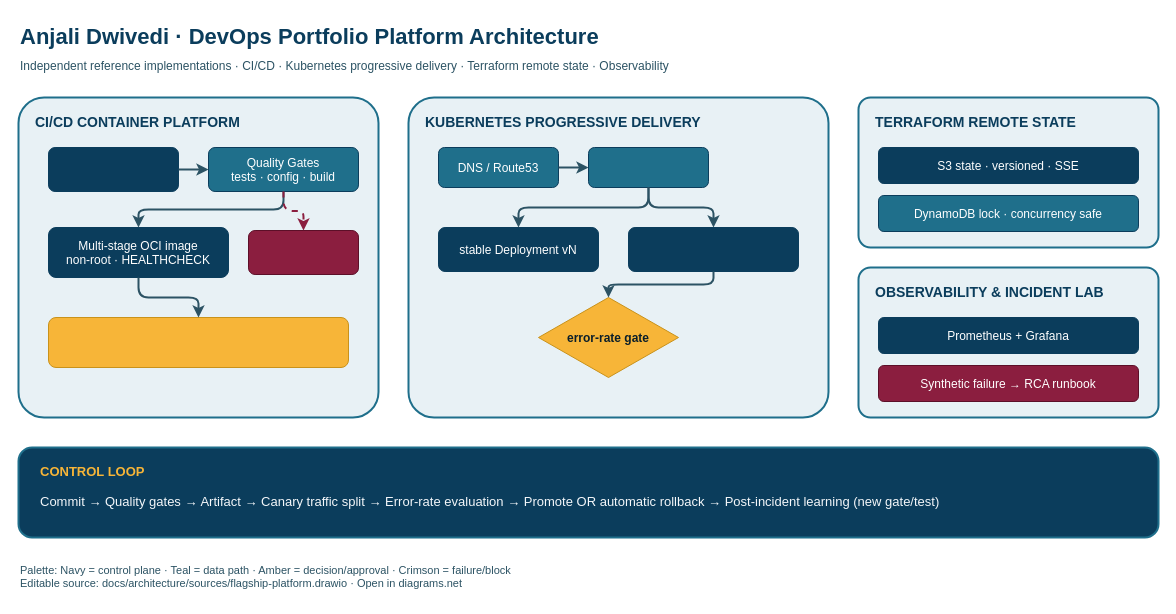
This 1176x614 diagram has some shape labels left out. Each missing label, with the centre of its shape:
"ALB / Ingress" belongs at point 648,167.
"BLOCK on failure" belongs at point 303,252.
"canary Deployment vN+1" belongs at point 713,249.
"dev → sit → uat → prod protected prod approval" belongs at point 198,342.
"Pull Request" belongs at point 113,169.
